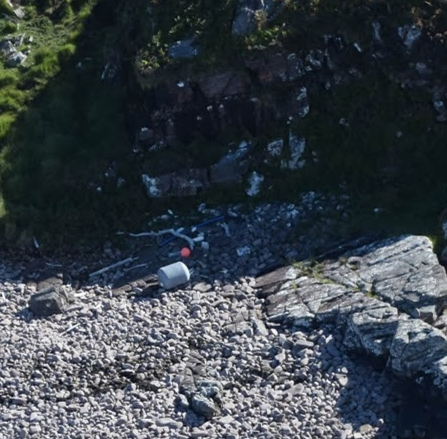together_barrel: (84, 211, 226, 292)
